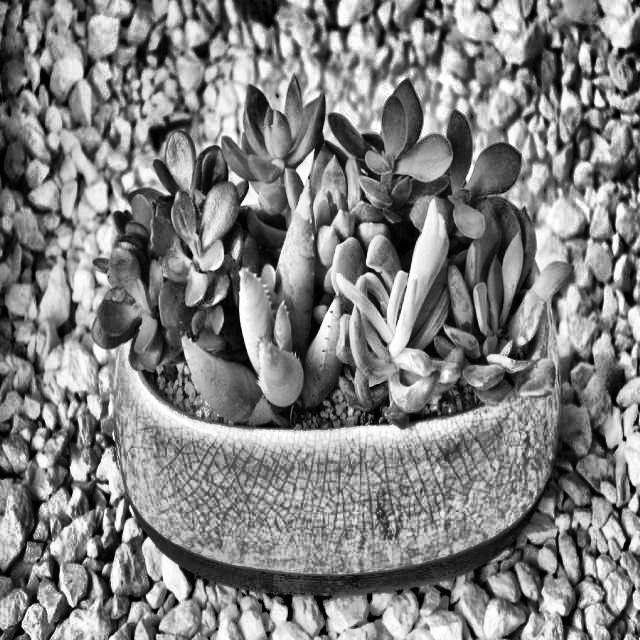plants: (69, 71, 578, 597), (137, 177, 240, 346)
